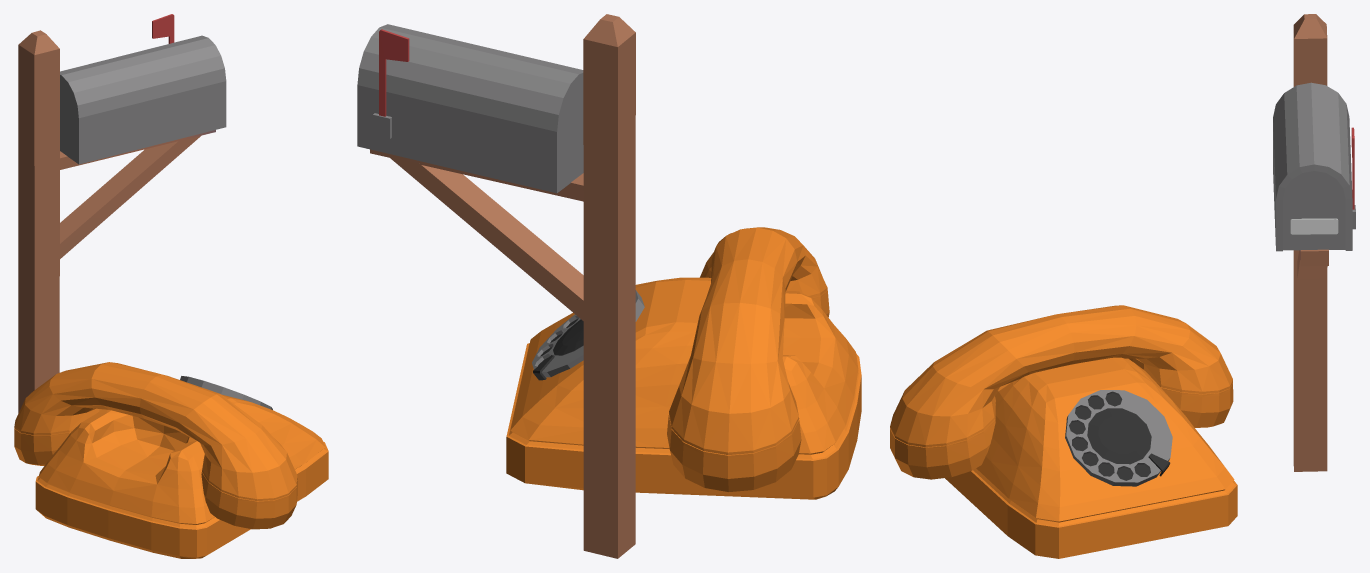
Rendered from contact.glb.
The picture shows the model from 3 angles, left to right: view 1: azimuth 30°, elevation 25°; view 2: azimuth 150°, elevation 25°; view 3: azimuth 270°, elevation 25°; orthographic projection. The views are drawn at different scales.
Visible parts, largest first — view 1: Phone, Mailbox; view 2: Mailbox, Phone; view 3: Phone, Mailbox.
Boxes of the visible parts, <box> form: Phone: <box>14,362,328,558</box>; Mailbox: <box>18,14,226,413</box>; Mailbox: <box>357,14,635,558</box>; Phone: <box>506,227,861,499</box>; Phone: <box>890,305,1237,558</box>; Mailbox: <box>1273,14,1355,471</box>.
Bounding box in the file's own units: 10.54 × 15.72 × 14.68.
2 materials, 2 textured.
